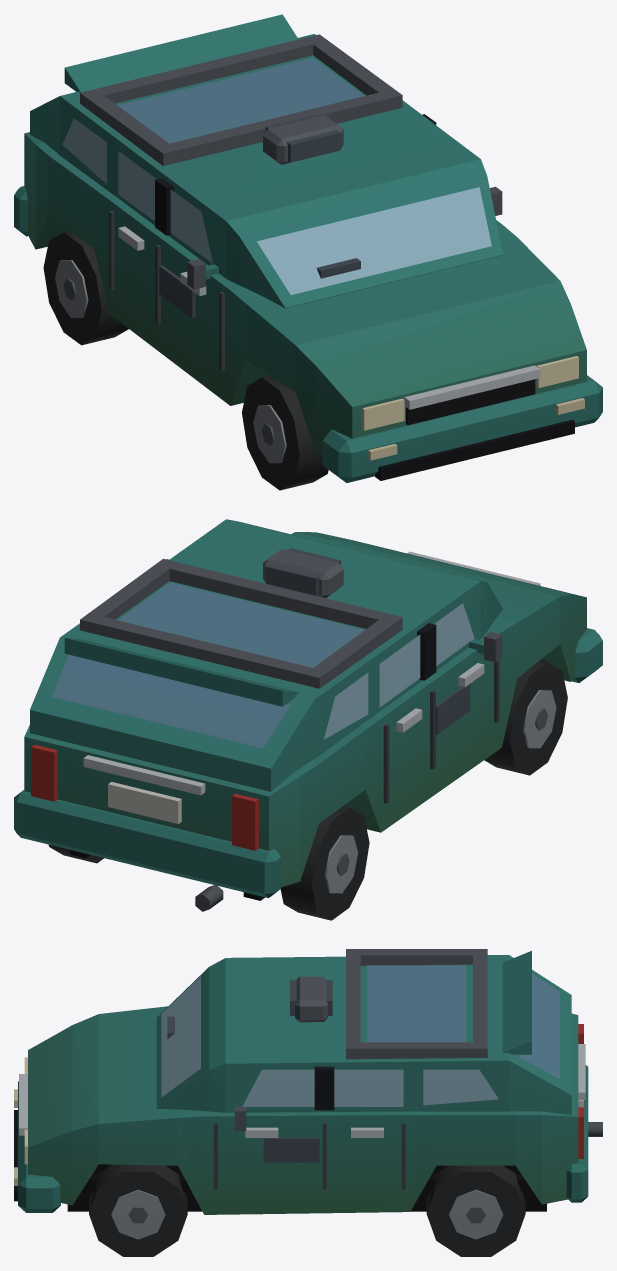
Rendered from rideshare_compact_01.glb.
3 renders of one model, top to bottom at view 1: azimuth 30°, elevation 25°; view 2: azimuth 150°, elevation 25°; view 3: azimuth 270°, elevation 25°, orthographic. The views are drawn at different scales.
Parts seen in each view (by area): view 1: rideshare_compact_01; view 2: rideshare_compact_01; view 3: rideshare_compact_01.
Boxes of the visible parts, bbox=[...] form: rideshare_compact_01: bbox=[14, 14, 602, 490]; rideshare_compact_01: bbox=[14, 519, 602, 920]; rideshare_compact_01: bbox=[14, 949, 602, 1256].
Size of the model in its own units: 1.1 by 0.8552 by 2.14.
